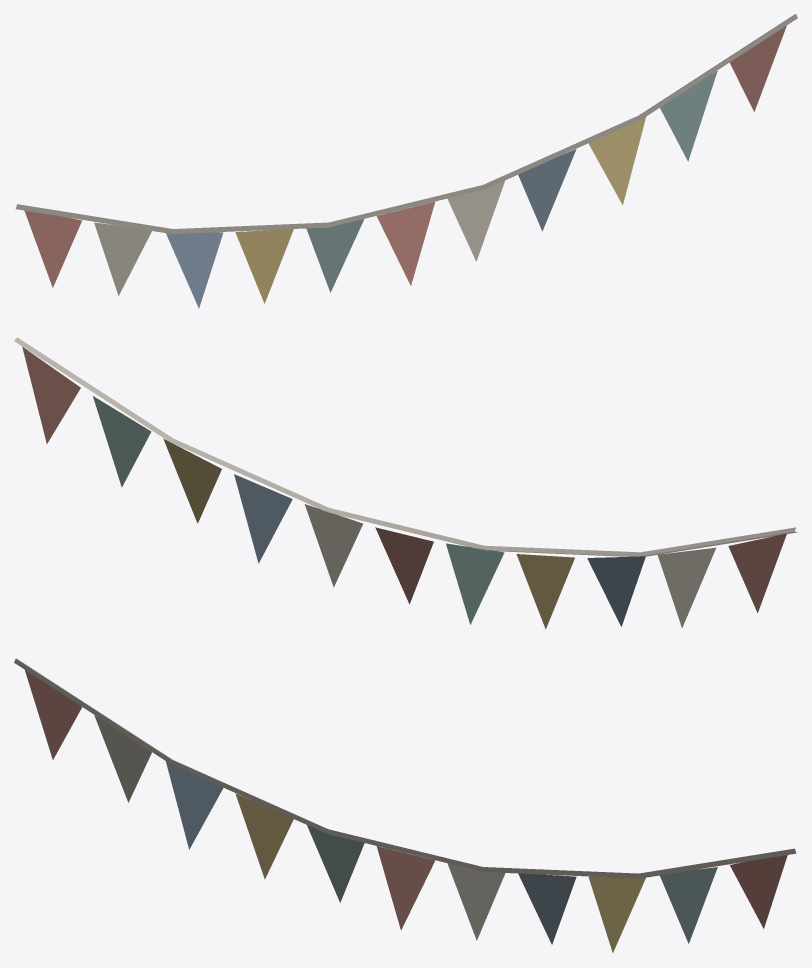
The model's file is bunting.lod1.glb.
3 views of the same model, one above another, from view 1: azimuth 30°, elevation 25°; view 2: azimuth 150°, elevation 25°; view 3: azimuth 330°, elevation 25° (orthographic).
Bounding box in the file's own units: 3.99 × 0.8501 × 0.0995.
